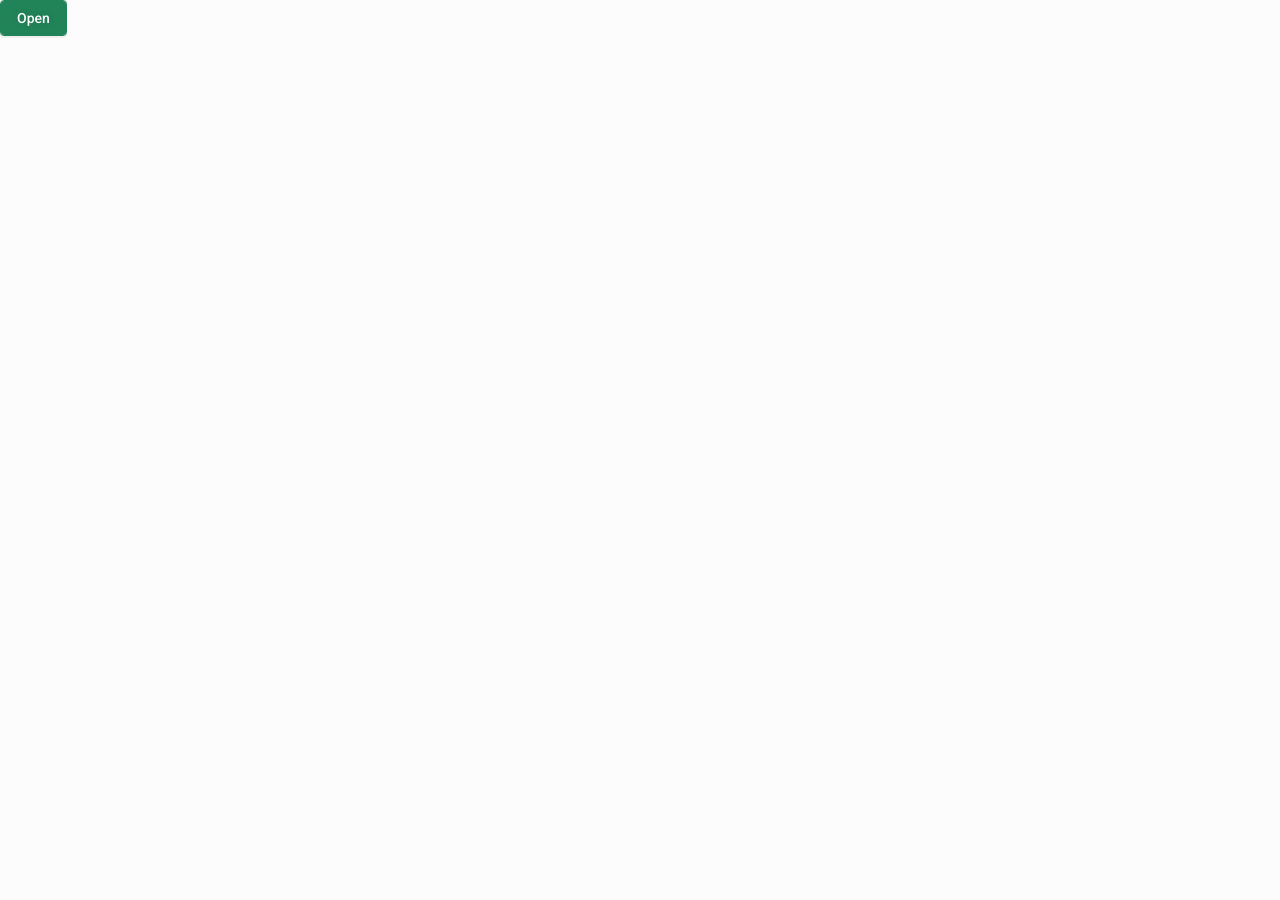
Scenario: ConfirmDialog › falls back to console.error without onError
Later steps or results of the test are not shown.
Click the button "Open" at x=33, y=18, box [0,0,67,36]
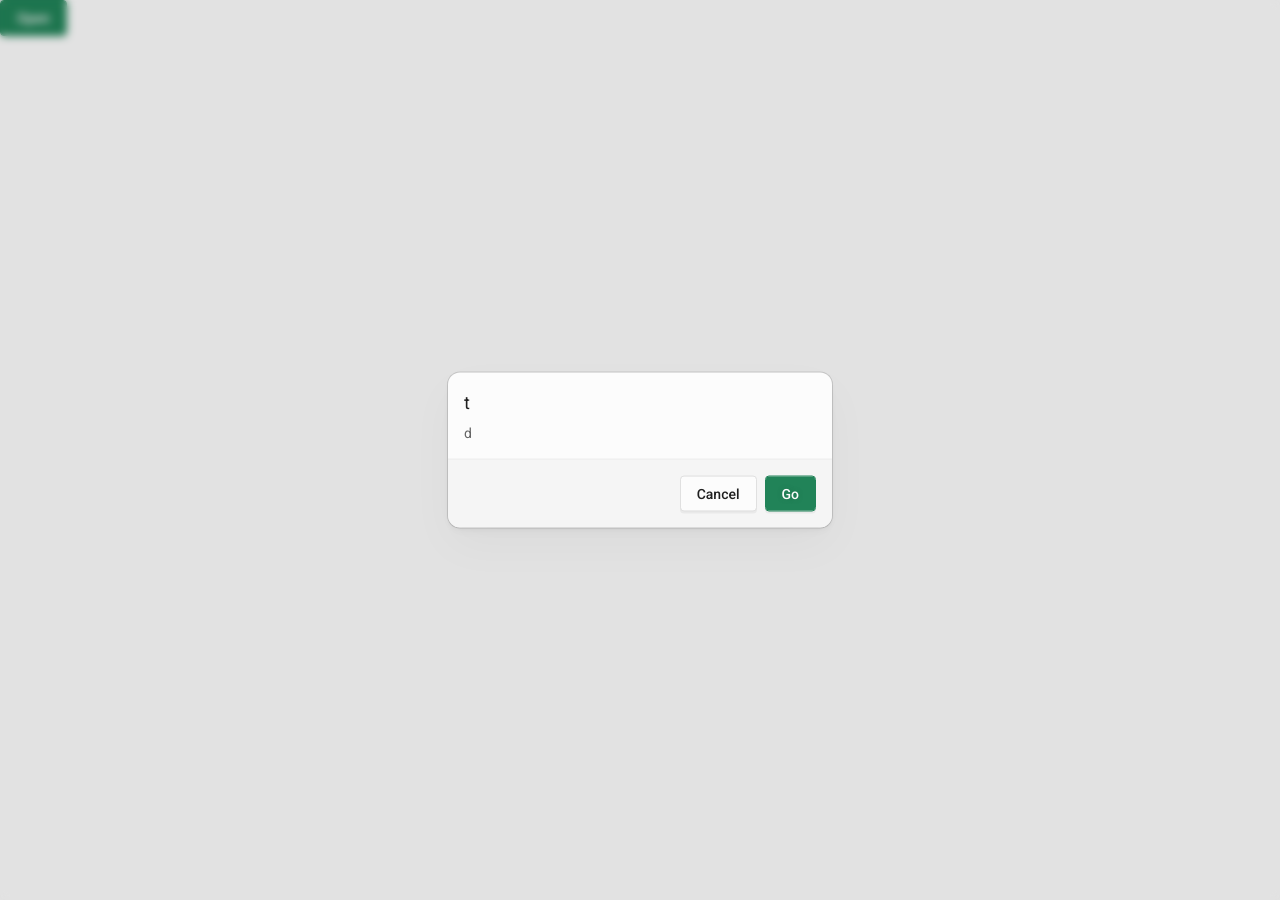
Result: the dialog is shown at [448,372,832,528]
